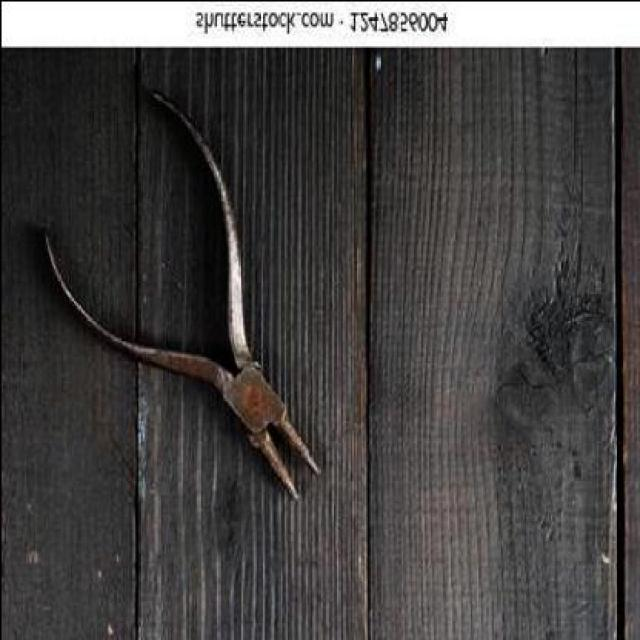pliers: (34, 88, 320, 514)
